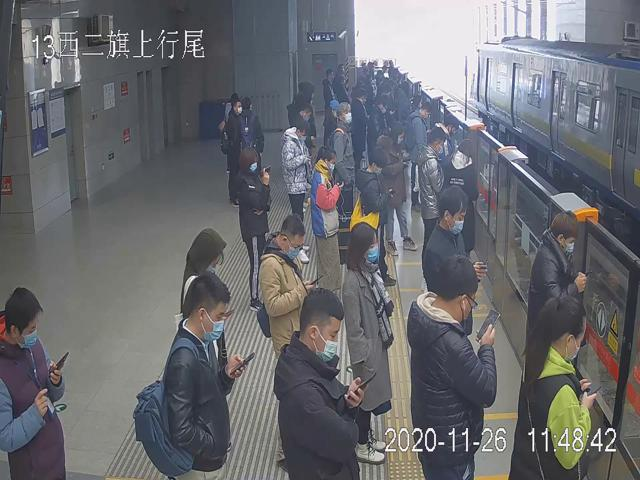person: (405, 255, 497, 480), (273, 287, 363, 480), (163, 272, 245, 480), (509, 292, 598, 480), (257, 212, 313, 469), (0, 285, 68, 480), (343, 219, 396, 466), (526, 210, 586, 334), (236, 147, 274, 313), (354, 147, 398, 287), (377, 122, 417, 255), (309, 144, 345, 291), (279, 121, 314, 264), (417, 127, 446, 291), (327, 102, 356, 266)
